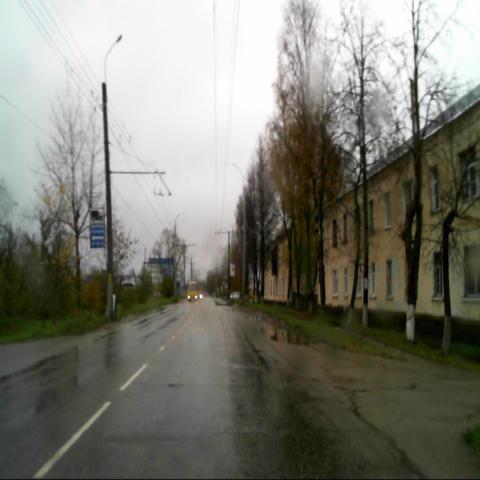8_4_1: (89, 206, 105, 225)
